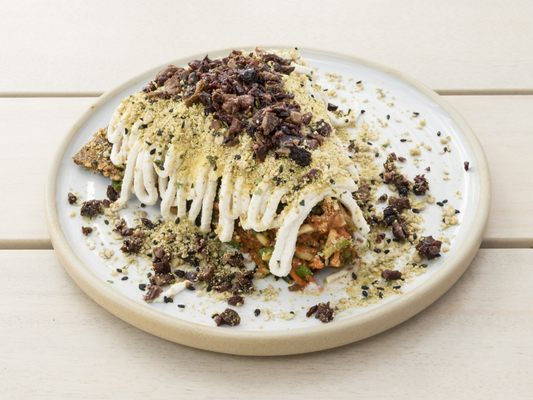sushi: (17, 44, 493, 357)
